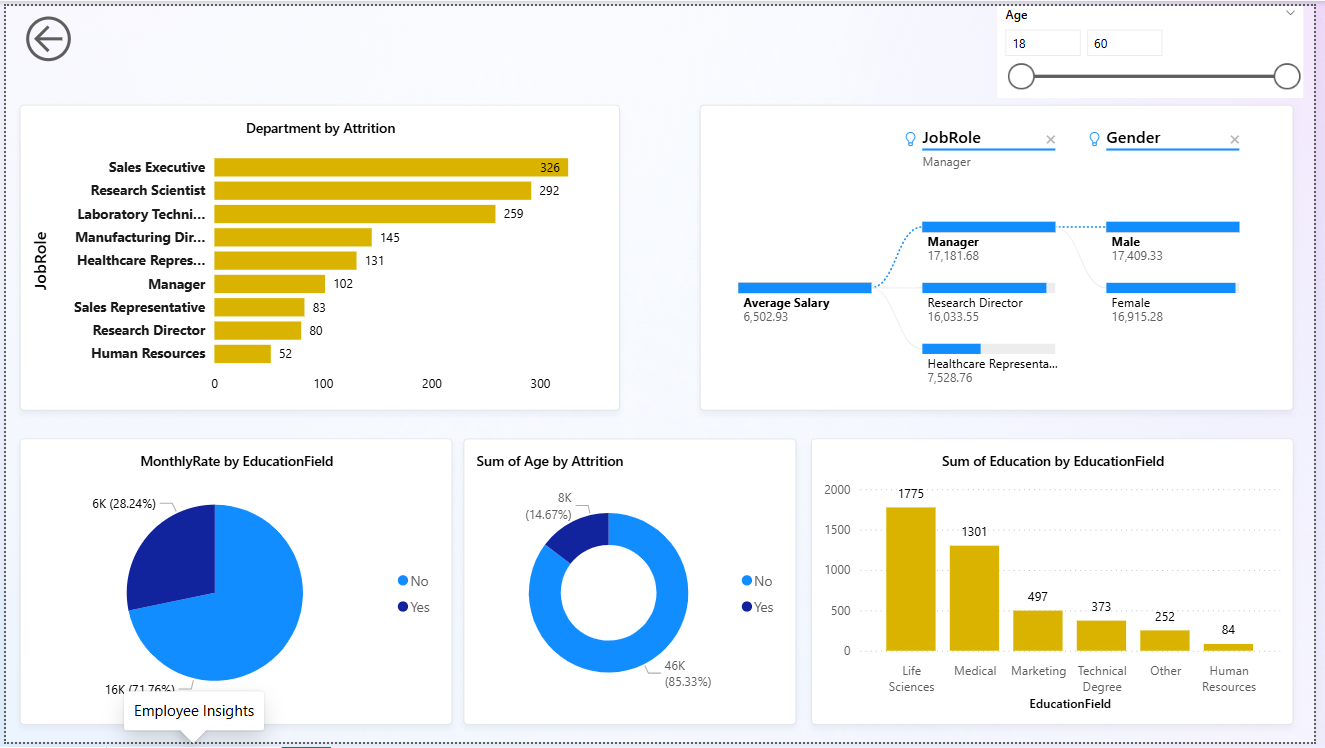

Layout of this report page (visuals, bound fields, positions):
{"tool":"powerbi","page":{"name":"Employee Insights","canvas":[1280,720],"ordinal":1},"visuals":[{"type":"barChart","title":"Department by Attrition","fields":{"Category":["Hr-Analytics.JobRole"],"Y":["CountNonNull(Hr-Analytics.Salary Slab)"]},"box":[13.5,96.6,587,299.6],"z":1000},{"type":"decompositionTreeVisual","fields":{"ExplainBy":["Hr-Analytics.JobRole","Hr-Analytics.Gender"],"Analyze":["Hr-Analytics.Average Salary"]},"box":[678.7,96.6,580.8,299.6],"z":2000},{"type":"columnChart","fields":{"Category":["Hr-Analytics.EducationField"],"Y":["Sum(Hr-Analytics.Education)"]},"box":[787.5,423.1,472,280],"z":3000},{"type":"pieChart","title":"MonthlyRate by EducationField","fields":{"Category":["Hr-Analytics.OverTime"],"Y":["Sum(Hr-Analytics.PercentSalaryHike)"]},"box":[13.5,423.1,423.1,280],"z":4000},{"type":"donutChart","fields":{"Category":["Hr-Analytics.Attrition"],"Y":["Sum(Hr-Analytics.Age)"]},"box":[447.6,423.1,325.3,280],"z":4001},{"type":"slicer","fields":{"Values":["Hr-Analytics.Age"]},"box":[969.7,0,299.6,89.3],"z":4002},{"type":"actionButton","box":[13.5,0,56.3,63.6],"z":4003}]}

Visuals, with their boxes in screenshot pixels (x1, y1, x2, y2), scaled from the page's 1280x720 canvas onto the 1325x748 screenshot:
"Department by Attrition" barChart: 14 100 622 412
decompositionTreeVisual - Hr-Analytics.JobRole x Hr-Analytics.Gender: 703 100 1304 412
columnChart - Hr-Analytics.EducationField x Sum(Hr-Analytics.Education): 815 440 1304 730
"MonthlyRate by EducationField" pieChart: 14 440 452 730
donutChart - Hr-Analytics.Attrition x Sum(Hr-Analytics.Age): 463 440 800 730
slicer - Hr-Analytics.Age: 1004 0 1314 93
actionButton: 14 0 72 66
